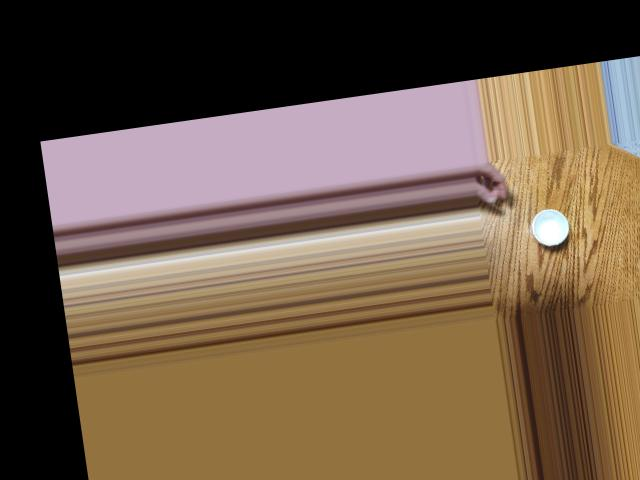cotage: (522, 202, 574, 249)
